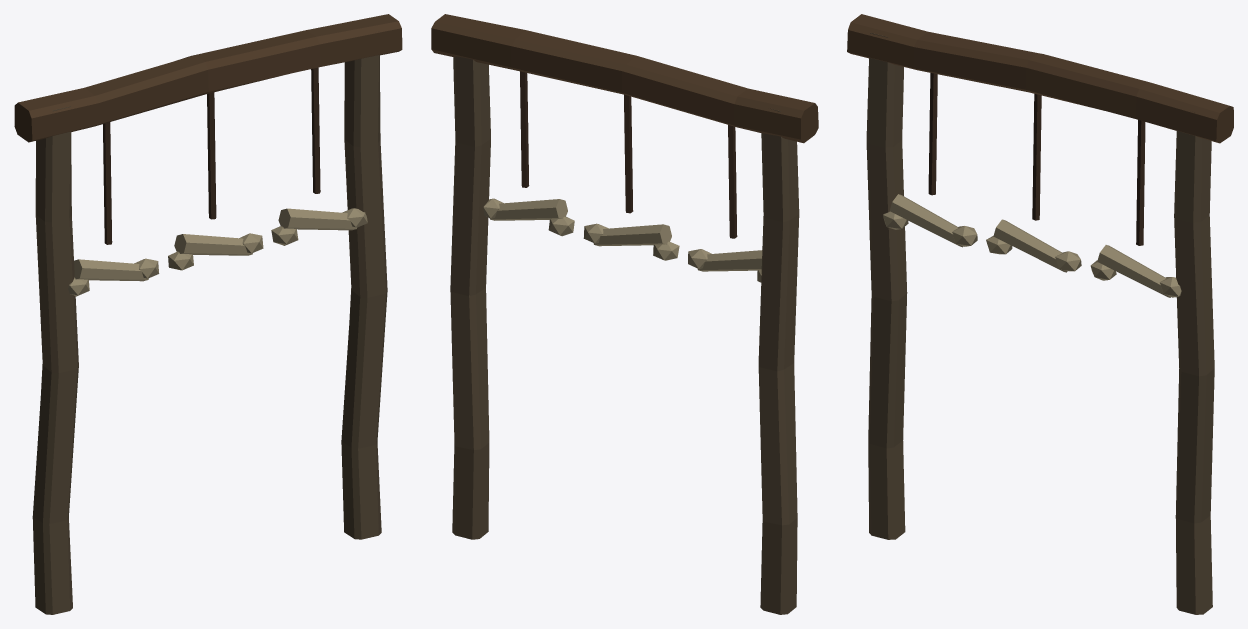
File: hanging-trophies.glb
3 renders of one model, left to right at view 1: azimuth 30°, elevation 25°; view 2: azimuth 150°, elevation 25°; view 3: azimuth 330°, elevation 25°, orthographic.
Parts seen in each view (by area): view 1: Wood, Stone; view 2: Wood, Stone; view 3: Wood, Stone.
Part boxes in pixels (bbox=[...]): Wood: bbox=[14, 14, 402, 614]; Stone: bbox=[68, 208, 367, 296]; Wood: bbox=[431, 14, 818, 614]; Stone: bbox=[483, 198, 762, 282]; Wood: bbox=[847, 14, 1233, 614]; Stone: bbox=[883, 194, 1181, 297].
Bounding box in the file's own units: 0.96 × 1.27 × 0.1014.
